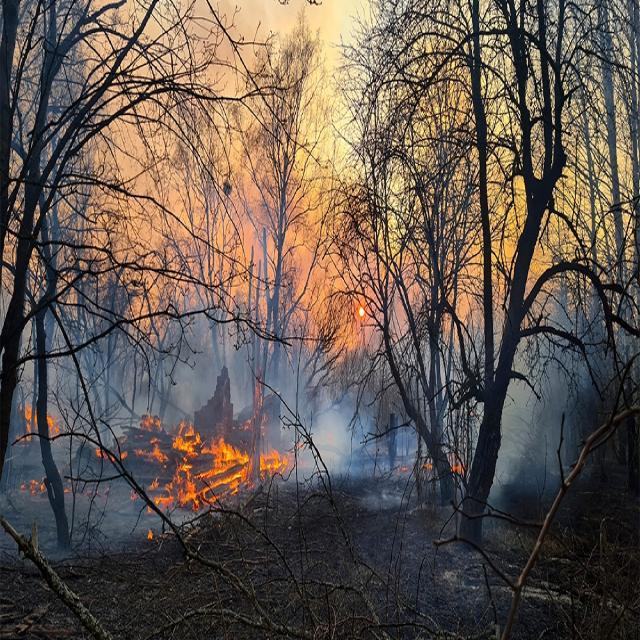Fire: (122, 414, 251, 510), (249, 366, 264, 484), (261, 449, 292, 476), (18, 392, 36, 436), (20, 478, 44, 495), (46, 412, 60, 437), (94, 447, 114, 463), (149, 530, 153, 540), (148, 508, 152, 512), (121, 453, 123, 461), (124, 451, 127, 456)
Smoke: (295, 408, 351, 482)
